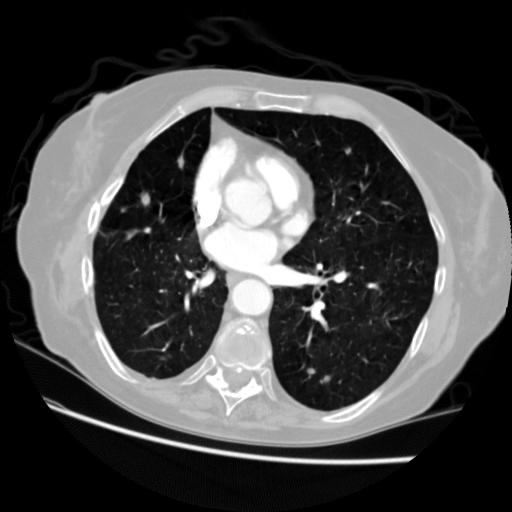nodule: (304, 363, 320, 379)
